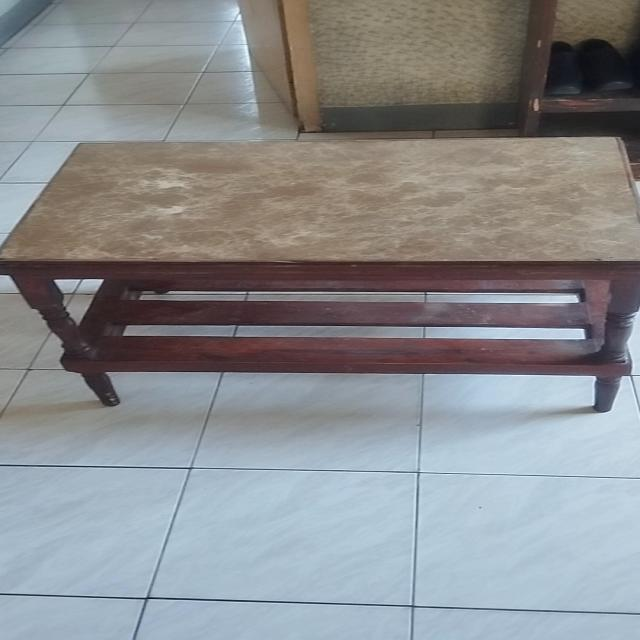table: (0, 132, 640, 416)
